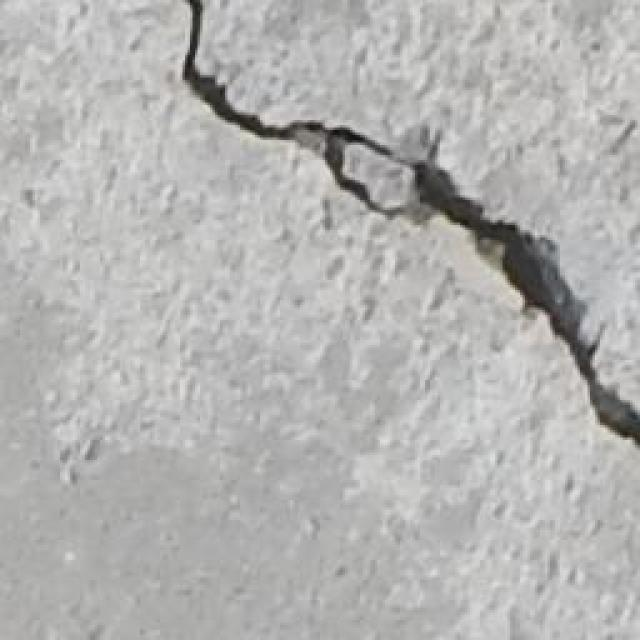concrete-crack: (176, 2, 640, 445)
